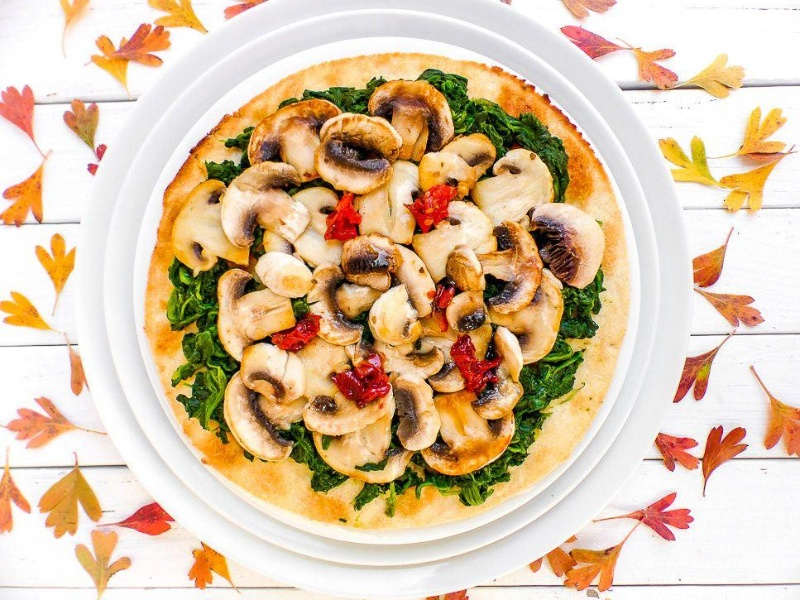champignon: (413, 382, 526, 478), (215, 163, 320, 251), (243, 96, 343, 183), (529, 197, 614, 294), (363, 78, 462, 161), (212, 269, 298, 356), (302, 260, 382, 348), (235, 336, 308, 403)
